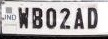character: (17, 6, 29, 29), (86, 6, 98, 28), (31, 6, 42, 28), (45, 7, 56, 29), (59, 7, 70, 29), (73, 7, 84, 29)
